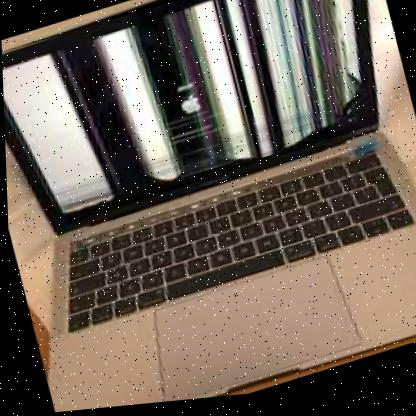lines: (0, 0, 389, 235)
